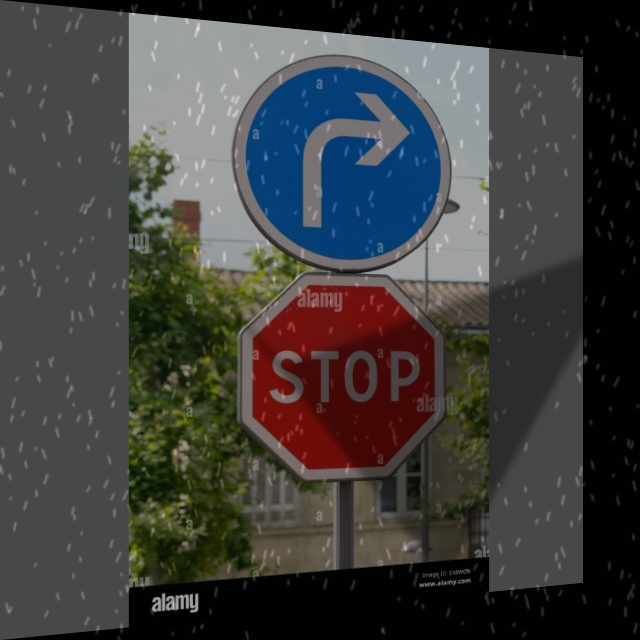Compulsory_Turn_Right_Ahead: (232, 48, 455, 270)
